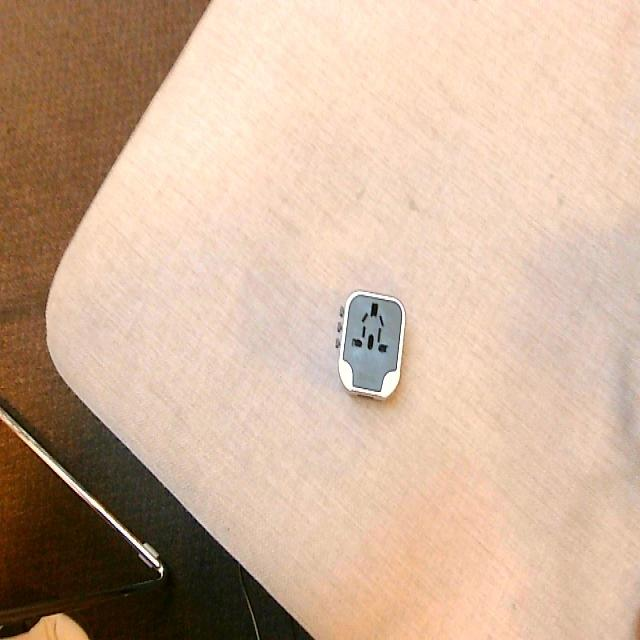adapter: (334, 288, 405, 400)
